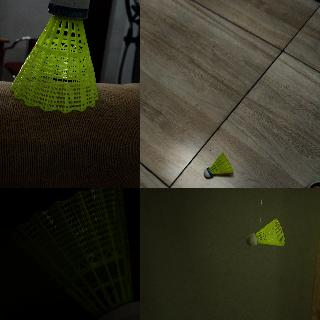shuttlecock: (9, 188, 139, 319), (9, 0, 100, 113), (246, 218, 284, 246), (202, 152, 234, 178)
